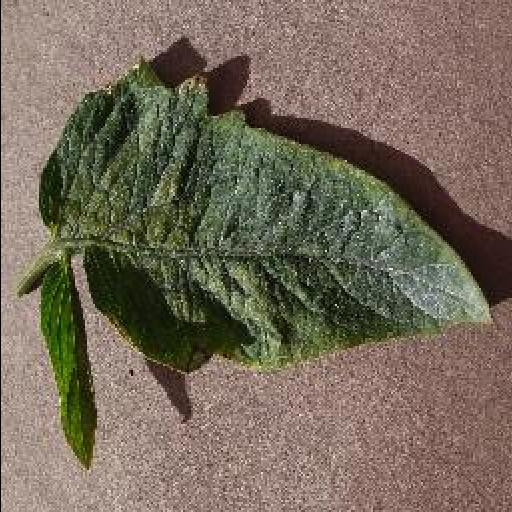disease_tomato: (38, 51, 492, 369)
